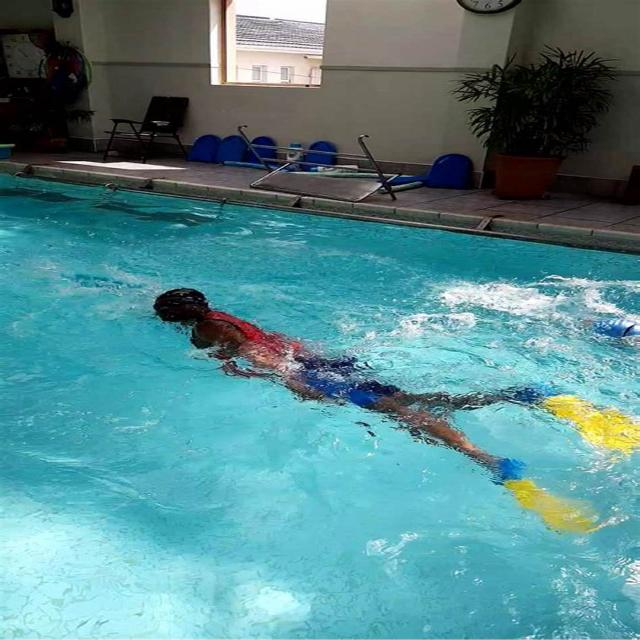Swimming: (145, 272, 640, 538)
